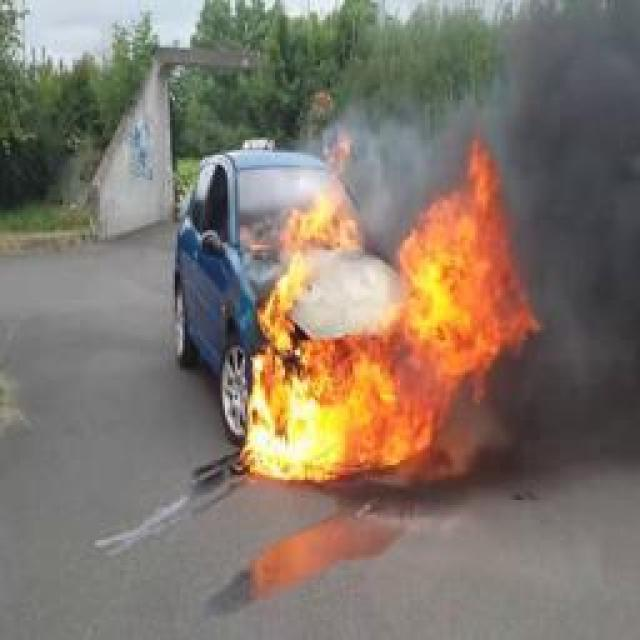Fire: (242, 129, 542, 479), (280, 134, 365, 252)
